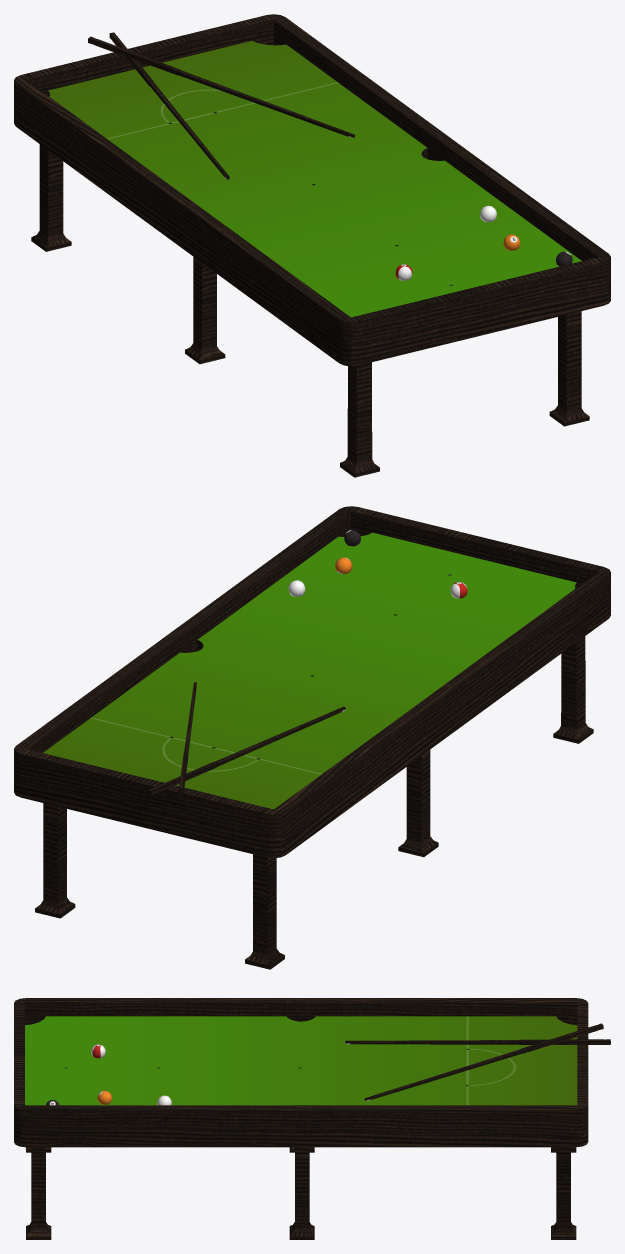
The model's file is Pool Table with White Ball.glb.
The picture shows the model from 3 angles, top to bottom: view 1: azimuth 30°, elevation 25°; view 2: azimuth 150°, elevation 25°; view 3: azimuth 270°, elevation 25°; orthographic projection. The views are drawn at different scales.
Visible parts, largest first — view 1: Table; view 2: Table; view 3: Table.
Part boxes in pixels (x1,y1,x2,y2): Table: (14, 14, 610, 477); Table: (14, 506, 610, 969); Table: (14, 998, 610, 1239).
Size of the model in its own units: 1.8 by 1.11 by 4.05.
1 material, 1 textured.
